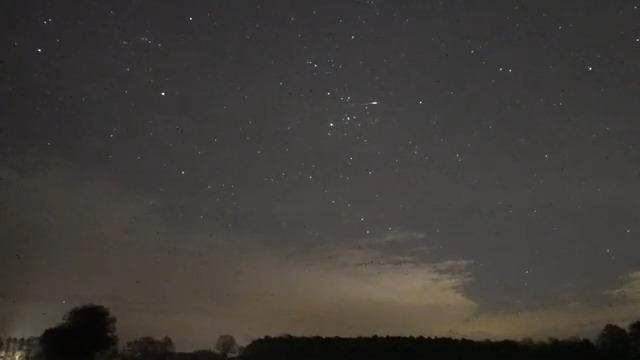meteorite: (340, 101, 384, 108)
